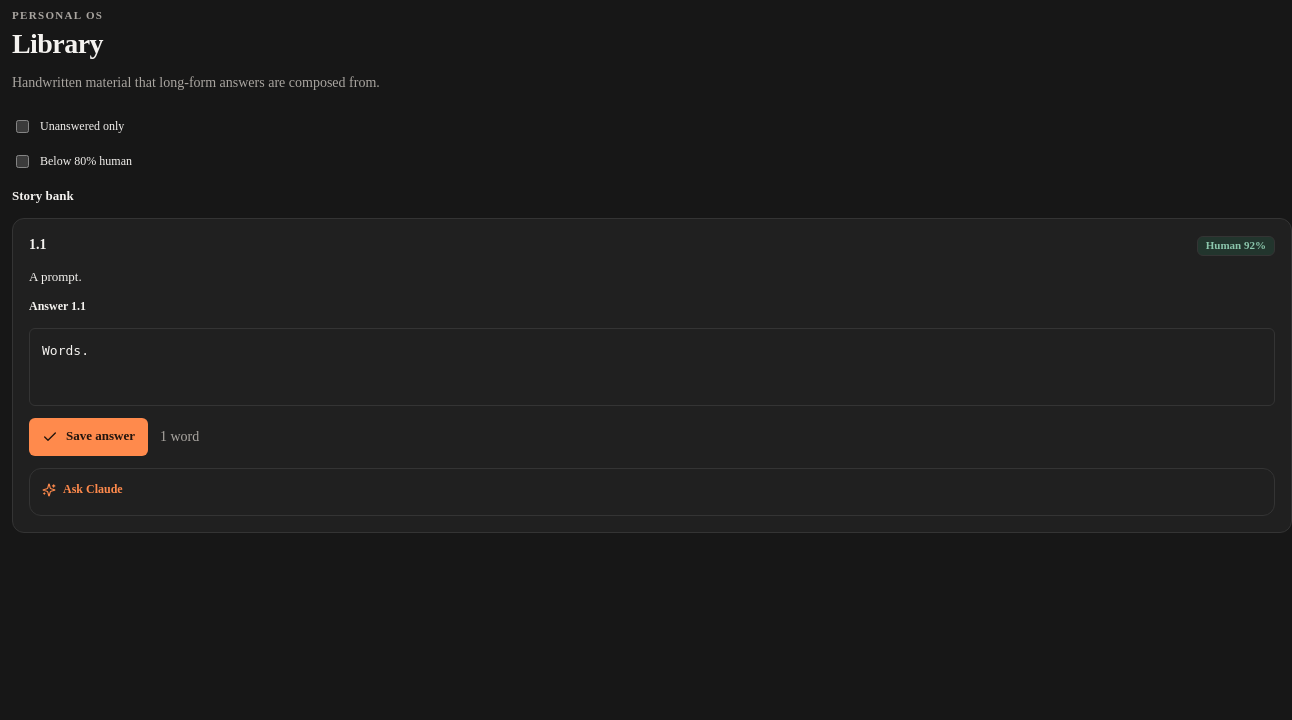
saving an answer resets the badge to Not checked
Expected: the text "Human 92%" is shown, [1197, 236, 1275, 256]
Replace the text in the text box labelled "Answer 1.1" with "New words." at (652, 367), box [29, 328, 1275, 406]
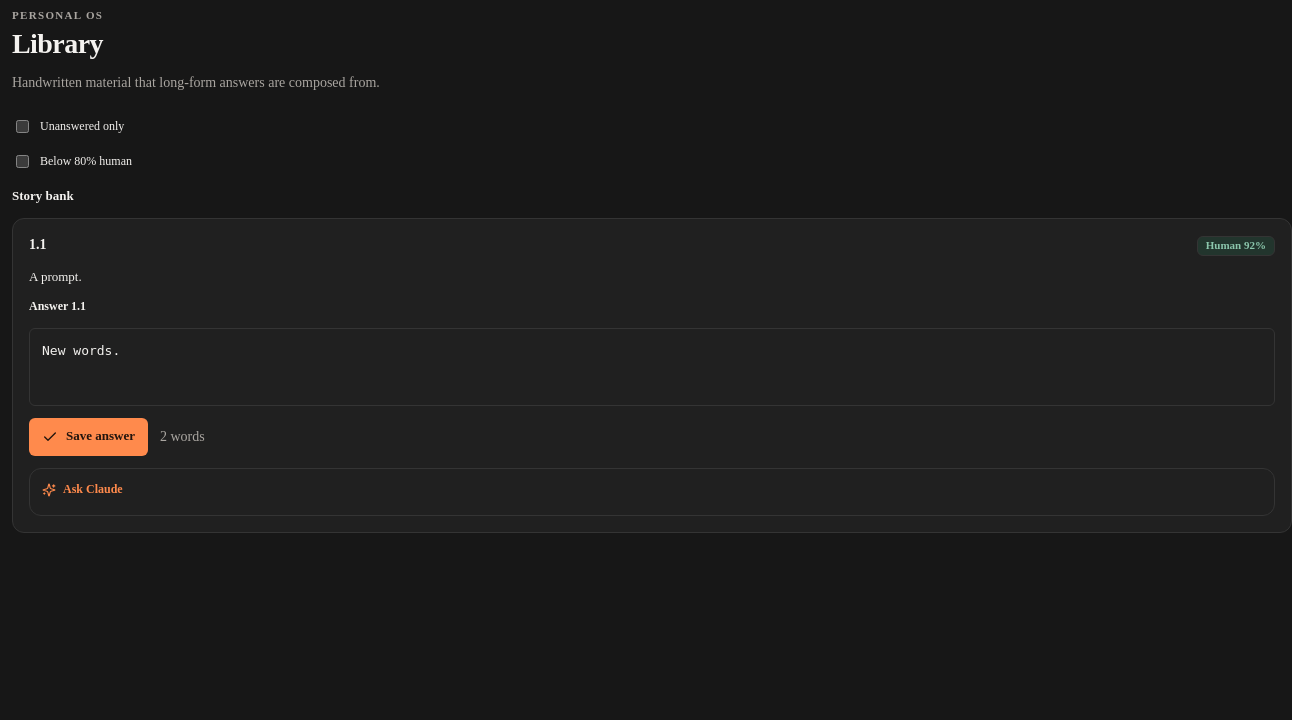
Click the button "Save answer" at (88, 437), box [29, 418, 148, 456]
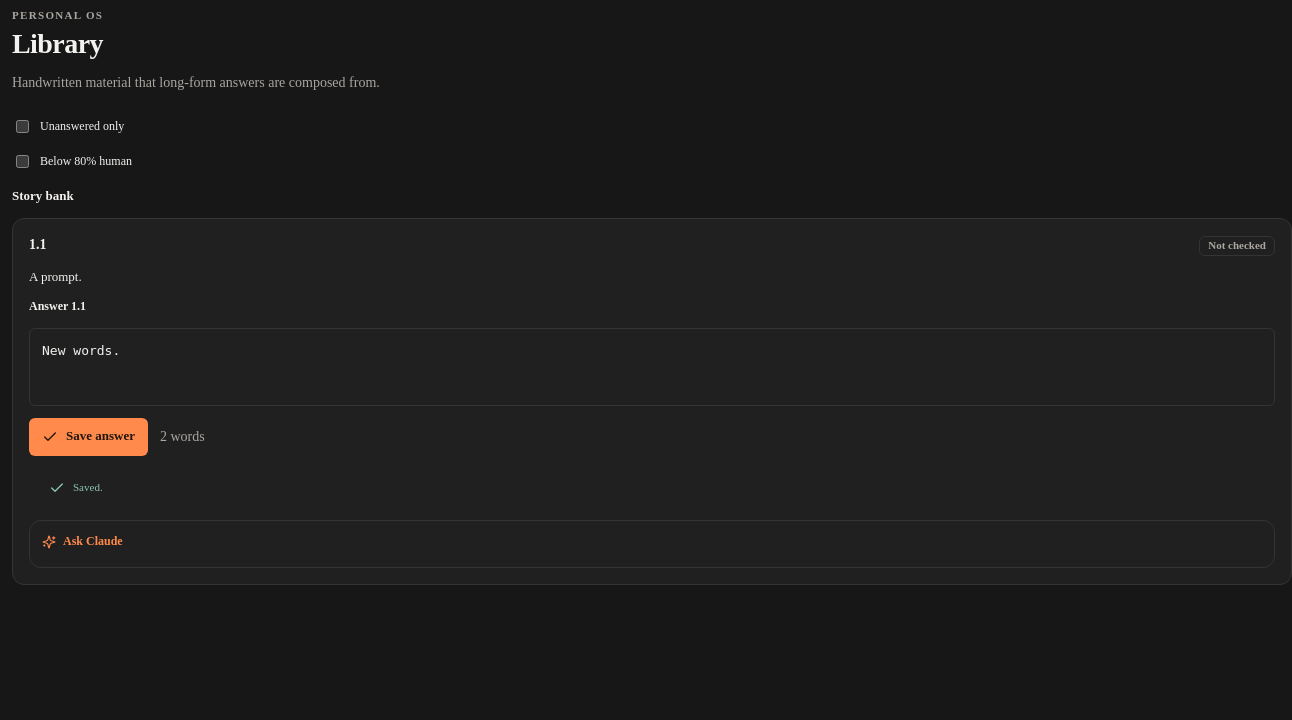
Now the text "Not checked" is shown, box [1199, 236, 1275, 256]
Now the text "Human 92%" is gone
